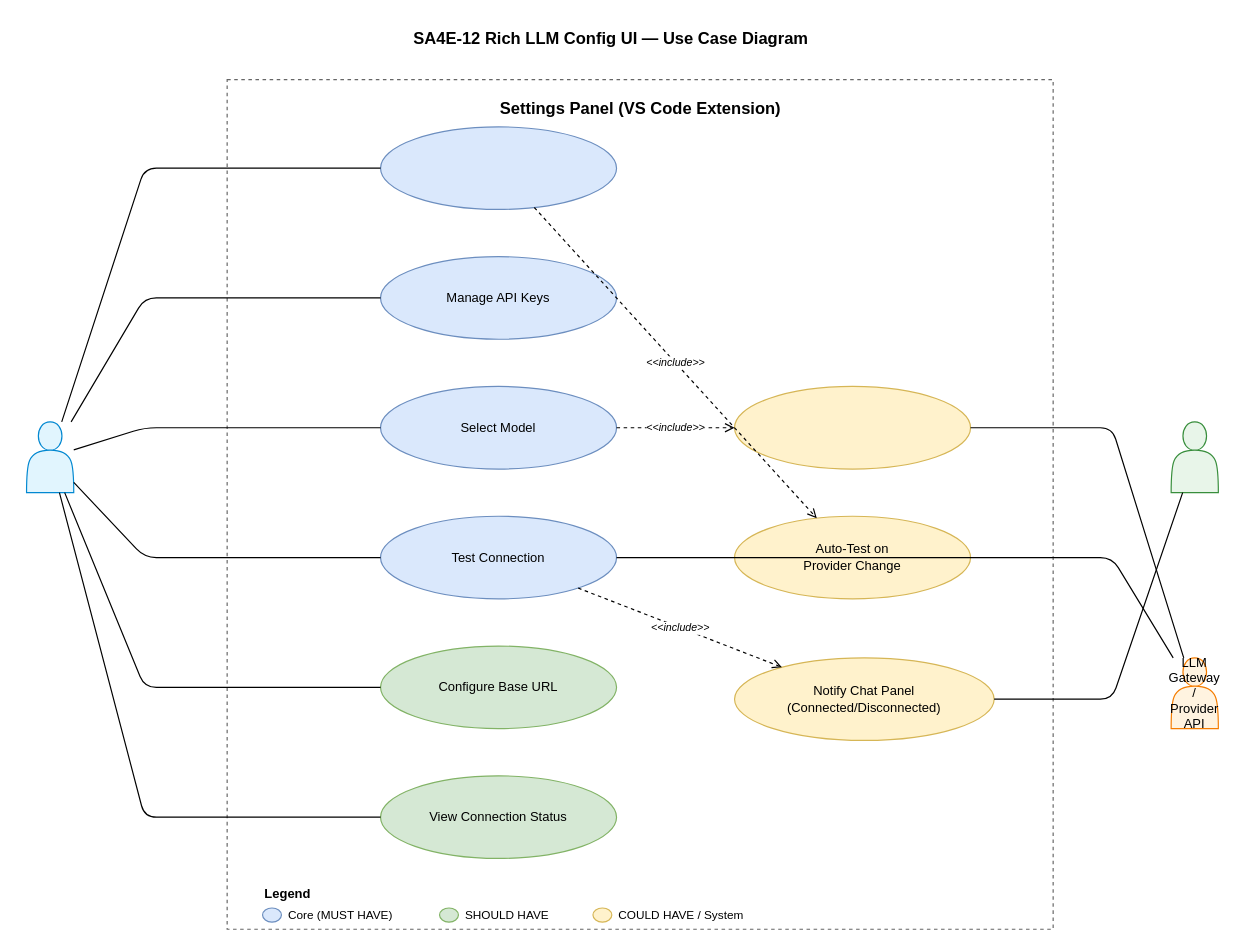
This 1247x950 diagram has some shape labels left out. Here are the shapes that lost their labels. From the top down, the box of each, then its label:
(379, 126, 617, 209): Select LLM Provider
(733, 385, 971, 469): Fetch Models from Gateway
(25, 421, 74, 493): Developer
(1170, 421, 1218, 493): LangGraph Engine
